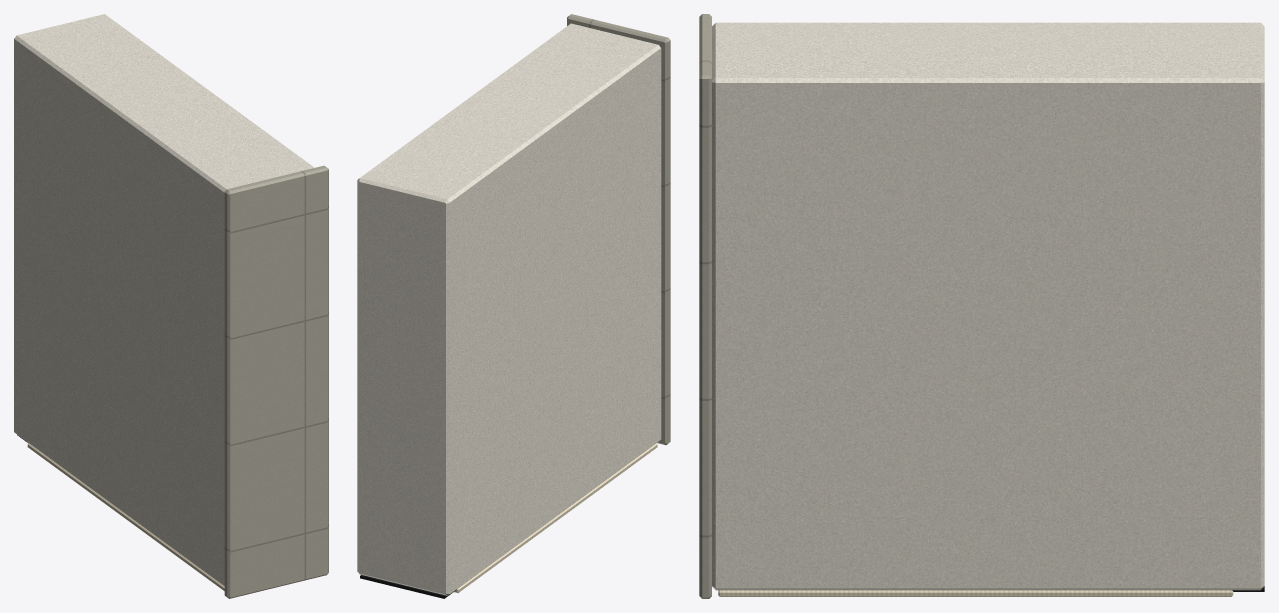
File: utility_storage.obj
3 renders of one model, left to right at view 1: azimuth 30°, elevation 25°; view 2: azimuth 150°, elevation 25°; view 3: azimuth 270°, elevation 25°, orthographic. The views are drawn at different scales.
Parts seen in each view (by area): view 1: utility_storage_plaster, utility_storage_tile, utility_storage_linen; view 2: utility_storage_plaster, utility_storage_tile, utility_storage_linen; view 3: utility_storage_plaster, utility_storage_tile, utility_storage_linen.
Boxes of the visible parts, x1,y1,x2,y2 form: utility_storage_plaster: (14, 14, 314, 585); utility_storage_tile: (224, 165, 328, 598); utility_storage_linen: (27, 443, 224, 590); utility_storage_plaster: (357, 23, 661, 595); utility_storage_tile: (567, 14, 670, 445); utility_storage_linen: (454, 443, 657, 592); utility_storage_plaster: (712, 22, 1264, 590); utility_storage_tile: (699, 14, 711, 598); utility_storage_linen: (718, 590, 1233, 596).
Size of the model in its own units: 24 by 93.1 by 90.
Materials: 5 (5 with a texture image).
